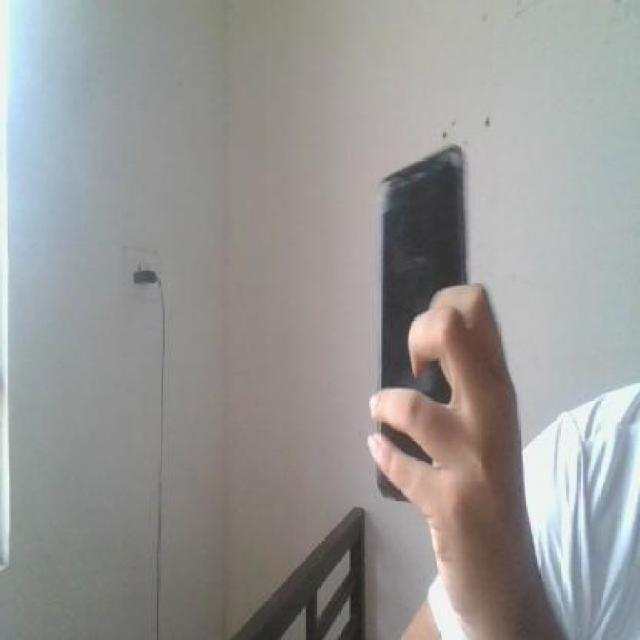Phone: (372, 143, 471, 505)
